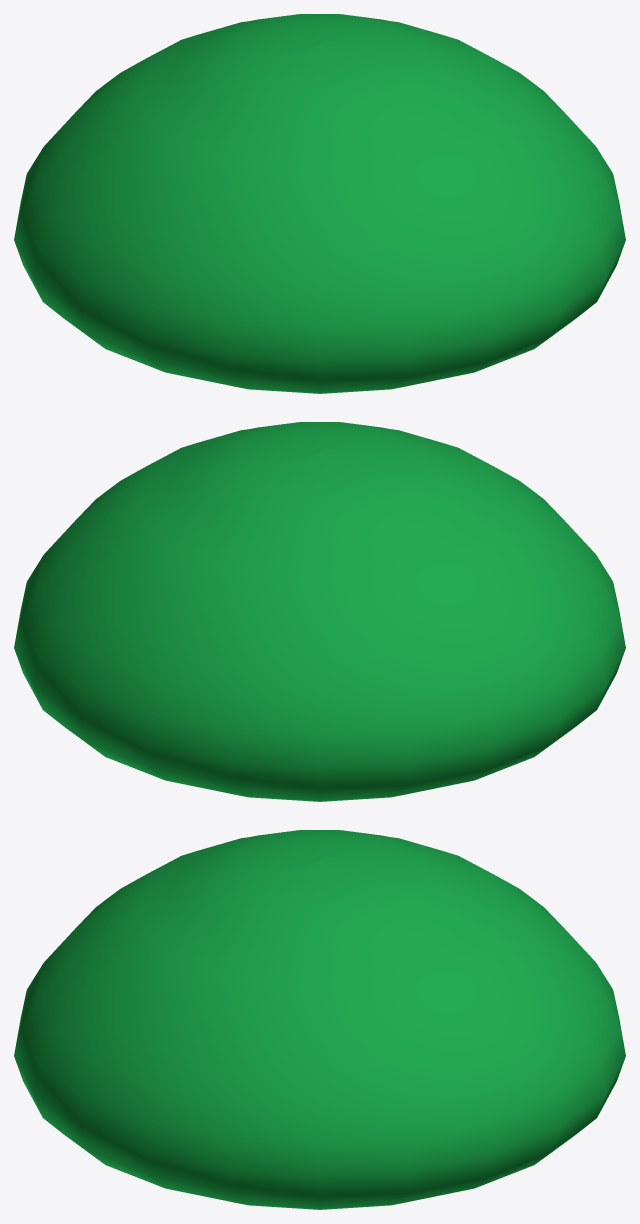
The model's file is slime.FBX.
The picture shows the model from 3 angles, top to bottom: view 1: azimuth 30°, elevation 25°; view 2: azimuth 150°, elevation 25°; view 3: azimuth 270°, elevation 25°; orthographic projection.
Parts seen in each view (by area): view 1: Line001; view 2: Line001; view 3: Line001.
Part boxes in pixels (box(x1,y1,x2,y2)): Line001: box(14, 14, 625, 393); Line001: box(14, 422, 625, 801); Line001: box(14, 830, 625, 1209).
Bounding box in the file's own units: 58.88 × 28.4 × 59.05.
